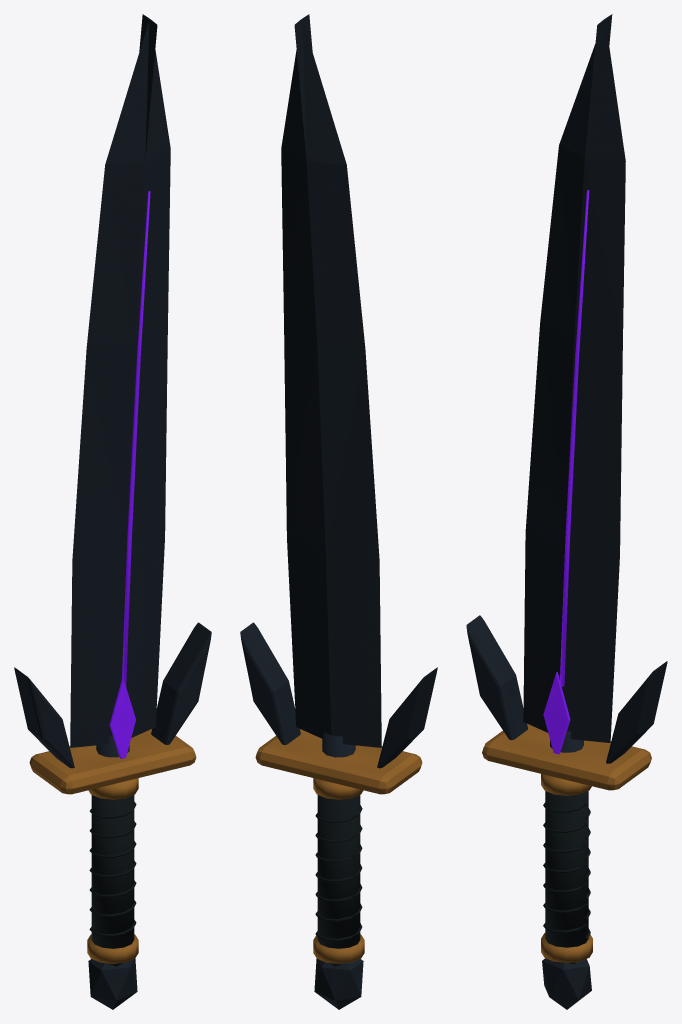
Rendered from Blade_CorruptedSword.fbx.
3 renders of one model, left to right at view 1: azimuth 30°, elevation 25°; view 2: azimuth 150°, elevation 25°; view 3: azimuth 330°, elevation 25°, orthographic.
Parts seen in each view (by area): view 1: Blade_CorruptedSword_DarkSteel, Blade_CorruptedSword_Gold, Blade_CorruptedSword_Leather, Blade_CorruptedSword_Violet; view 2: Blade_CorruptedSword_DarkSteel, Blade_CorruptedSword_Gold, Blade_CorruptedSword_Leather; view 3: Blade_CorruptedSword_DarkSteel, Blade_CorruptedSword_Gold, Blade_CorruptedSword_Leather, Blade_CorruptedSword_Violet.
Boxes of the visible parts, x1,y1,x2,y2 form: Blade_CorruptedSword_DarkSteel: (14, 14, 211, 1009); Blade_CorruptedSword_Gold: (29, 729, 196, 963); Blade_CorruptedSword_Leather: (89, 795, 136, 948); Blade_CorruptedSword_Violet: (109, 191, 150, 758); Blade_CorruptedSword_DarkSteel: (240, 14, 437, 1009); Blade_CorruptedSword_Gold: (255, 729, 422, 963); Blade_CorruptedSword_Leather: (315, 795, 362, 948); Blade_CorruptedSword_DarkSteel: (466, 14, 667, 1009); Blade_CorruptedSword_Gold: (482, 723, 651, 962); Blade_CorruptedSword_Leather: (543, 791, 590, 947); Blade_CorruptedSword_Violet: (543, 190, 589, 754).
Size of the model in its own units: 0.2583 by 1.32 by 0.095.
